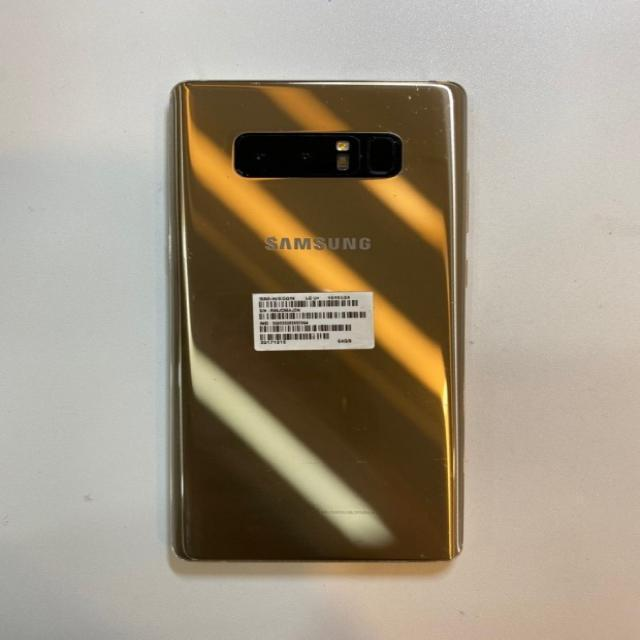phone: (170, 78, 462, 562)
